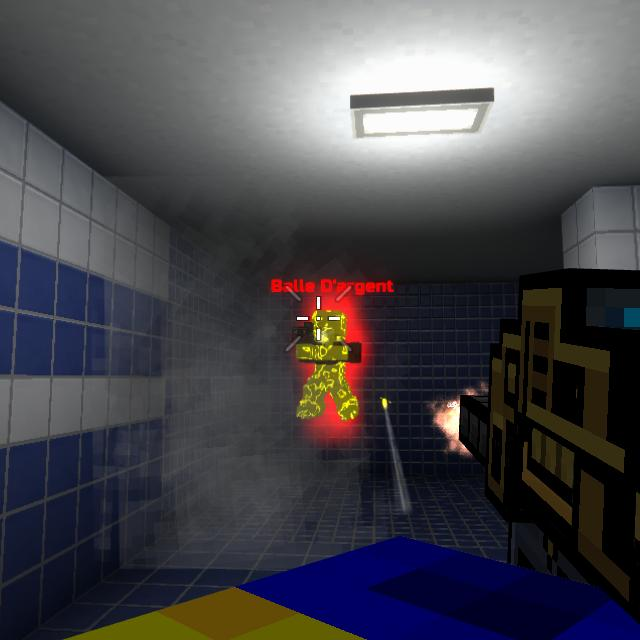Enemy: (296, 307, 363, 421)
